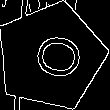O_W: (20, 30, 81, 84)
